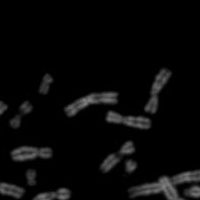chromosome: (128, 169, 200, 196), (63, 89, 117, 118), (144, 69, 171, 114), (106, 112, 150, 129), (161, 176, 191, 200), (8, 101, 33, 129), (11, 146, 51, 162), (33, 184, 71, 200), (0, 177, 25, 198), (99, 154, 118, 171), (39, 75, 55, 95), (26, 167, 38, 188), (116, 142, 135, 155), (125, 161, 139, 175), (186, 184, 200, 198), (0, 101, 5, 140)
